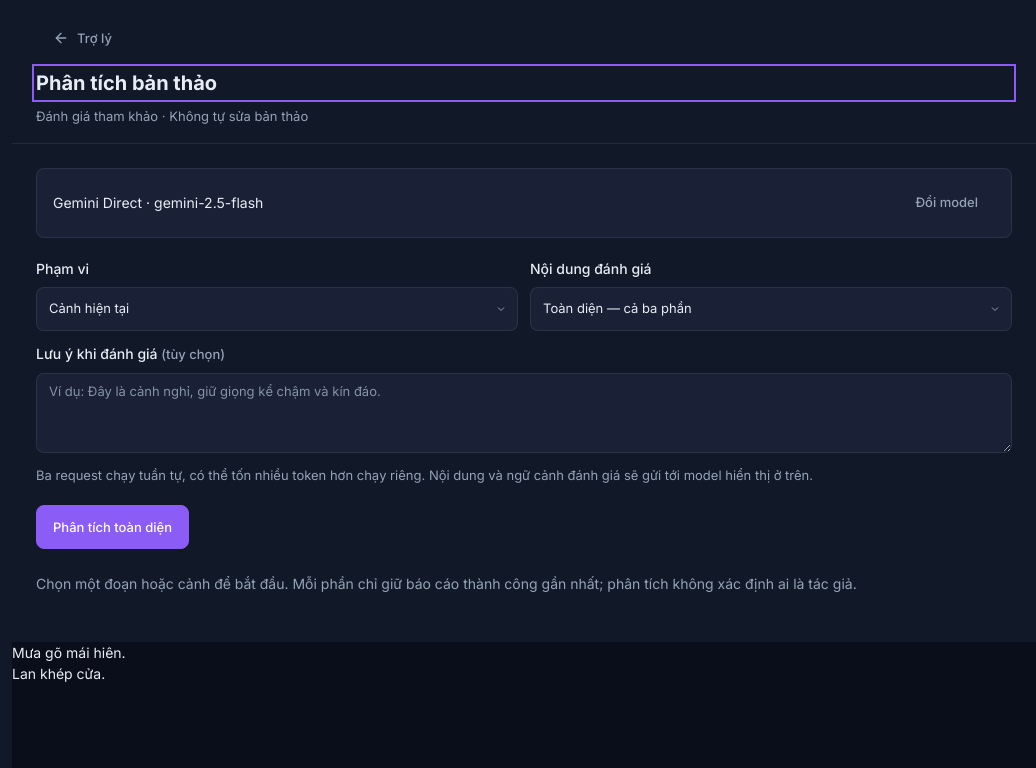
review UI with real Tiptap and service › renders Phần phân tích options inside the review instead of a native browser popup
Click the dropdown named "Phần phân tích". click: point(617, 308)
box: [530,287,1012,331]
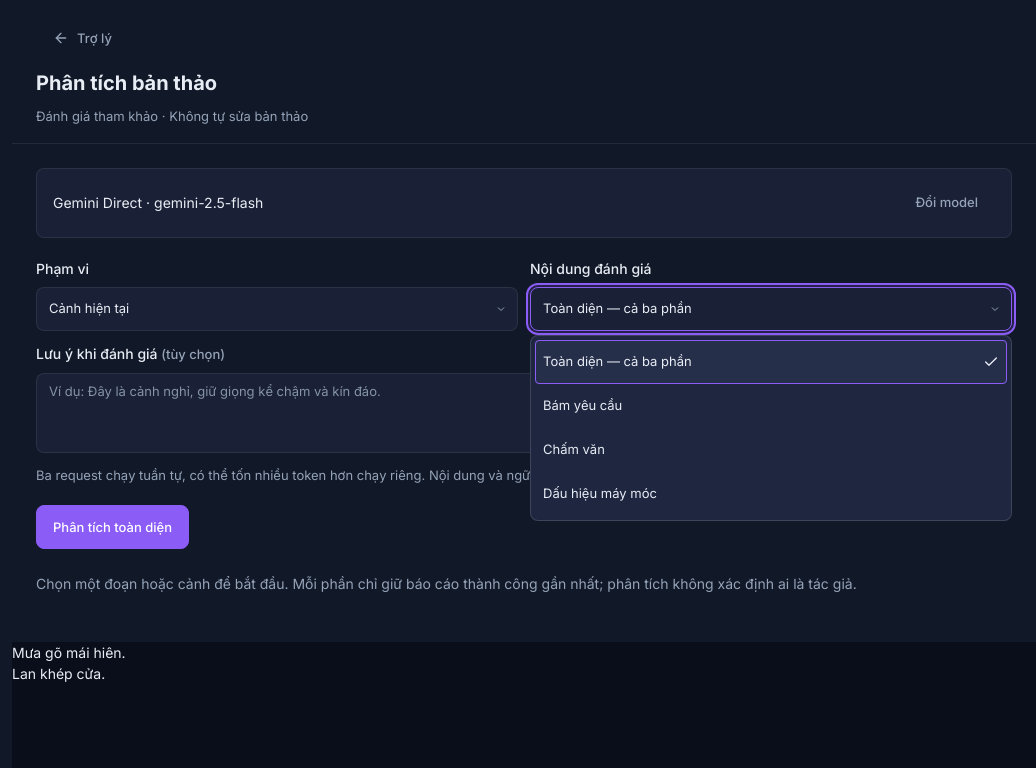
Expected: the option "Toàn diện — cả ba phần" is shown, [535,340,1007,384]
